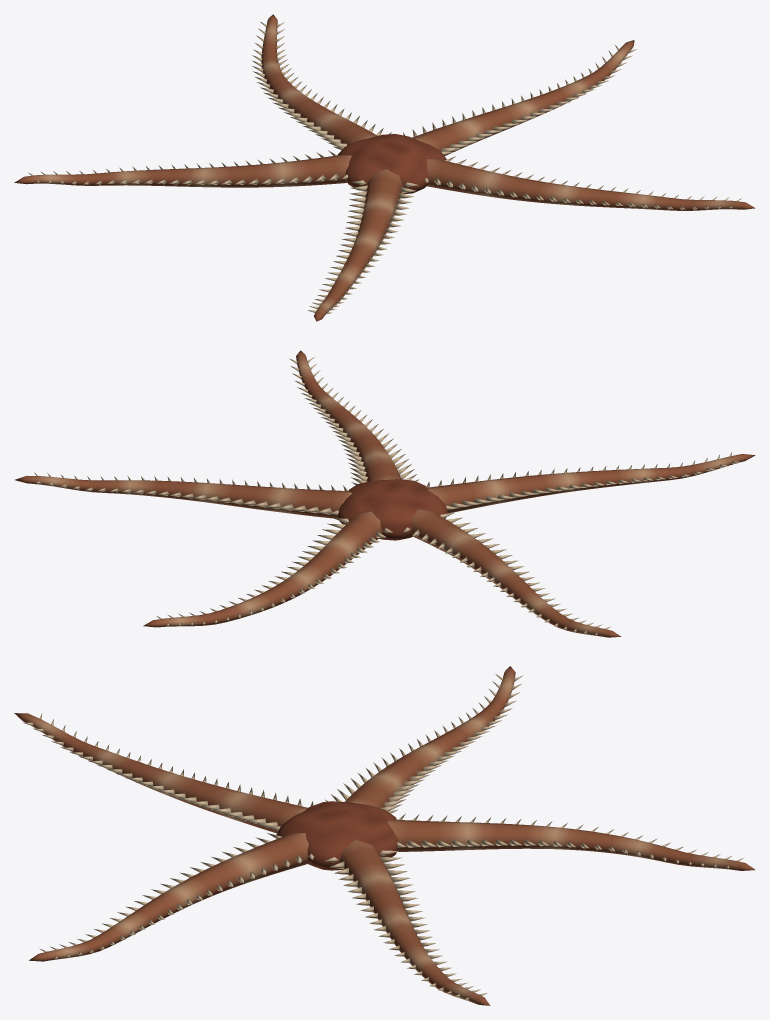
File: Furcaster.fbx
3 renders of one model, top to bottom at view 1: azimuth 30°, elevation 25°; view 2: azimuth 150°, elevation 25°; view 3: azimuth 270°, elevation 25°, orthographic. The views are drawn at different scales.
Visible parts, largest first — view 1: Furcaster; view 2: Furcaster; view 3: Furcaster.
Boxes of the visible parts, x1=… form: Furcaster: x1=14, y1=14, x2=755, y2=321; Furcaster: x1=15, y1=350, x2=755, y2=637; Furcaster: x1=14, y1=666, x2=755, y2=1005.
Bounding box in the file's own units: 1.58 × 0.1 × 1.46.
